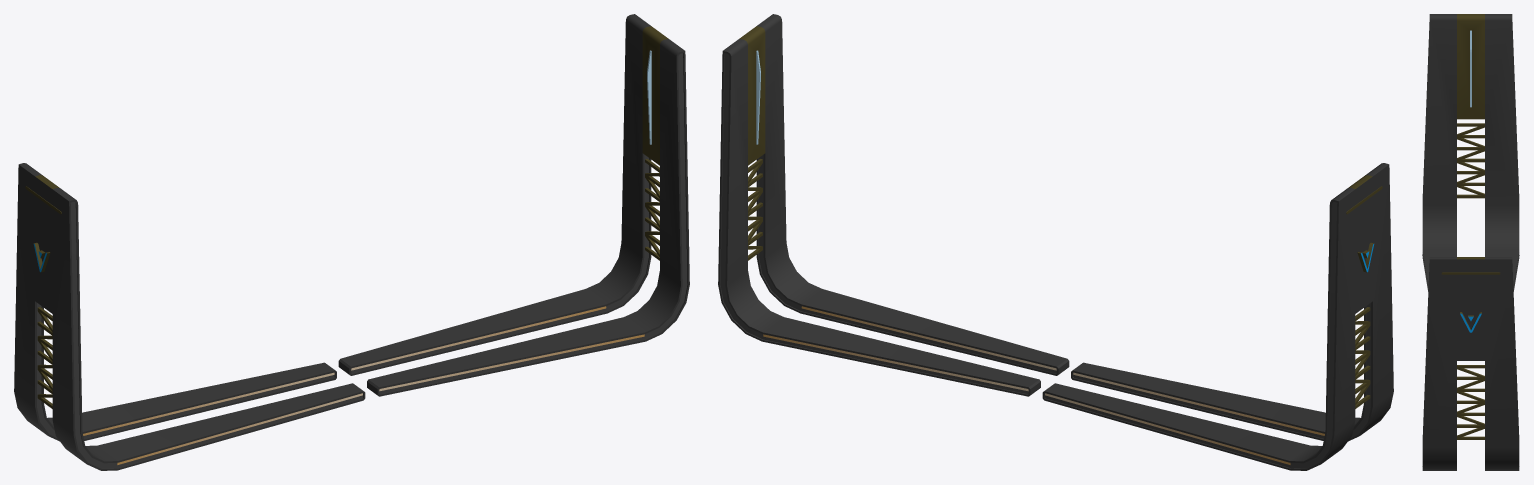
Rendered from W_O_Monoraildock_001_L0.fbx.
3 views of the same model, side by side, from view 1: azimuth 30°, elevation 25°; view 2: azimuth 150°, elevation 25°; view 3: azimuth 270°, elevation 25° (orthographic). The views are drawn at different scales.
Visible parts, largest first — view 1: W_O_Monoraildock_001_L0; view 2: W_O_Monoraildock_001_L0; view 3: W_O_Monoraildock_001_L0.
Boxes of the visible parts, x1=… form: W_O_Monoraildock_001_L0: x1=14, y1=14, x2=689, y2=470; W_O_Monoraildock_001_L0: x1=718, y1=14, x2=1393, y2=470; W_O_Monoraildock_001_L0: x1=1422, y1=14, x2=1519, y2=470.
Bounding box in the file's own units: 10.3 × 4.37 × 1.7.
